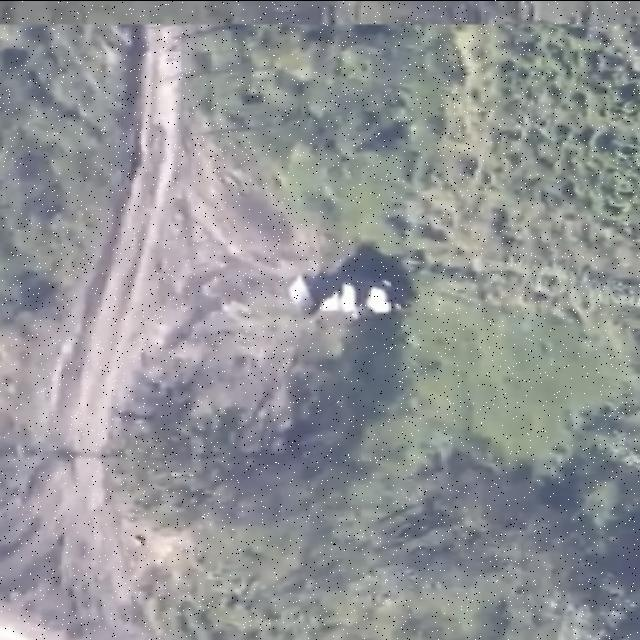MLRS: (284, 270, 408, 321)
